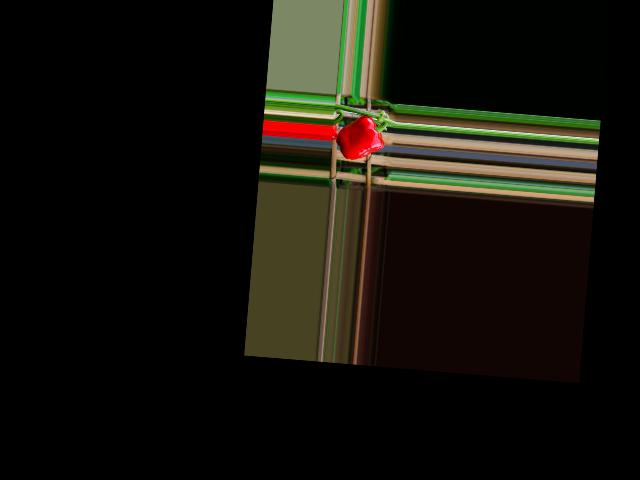bell_pepper: (335, 110, 386, 165)
